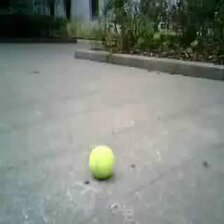tennis: (90, 146, 114, 178)
